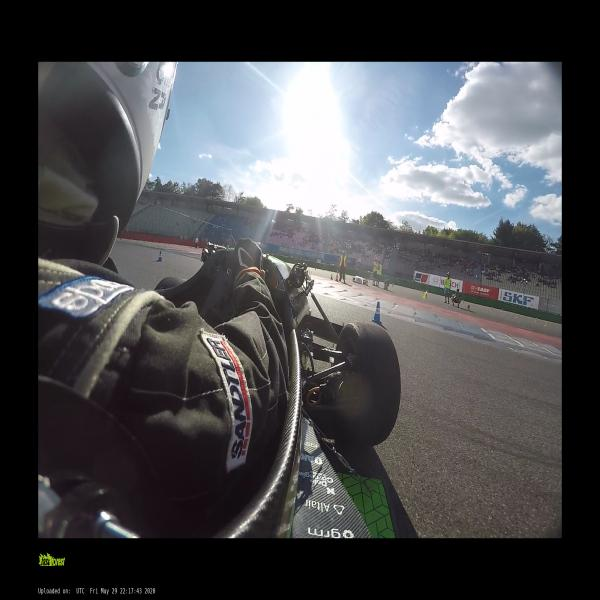blue_cone: (371, 301, 382, 325), (157, 251, 163, 261), (330, 274, 333, 280)
large_orange_cone: (335, 272, 338, 282)
yellow_cone: (423, 293, 427, 299), (467, 304, 470, 311), (544, 322, 548, 327), (534, 318, 538, 322), (516, 314, 519, 319), (490, 307, 493, 311), (501, 308, 503, 312), (462, 300, 464, 304)
